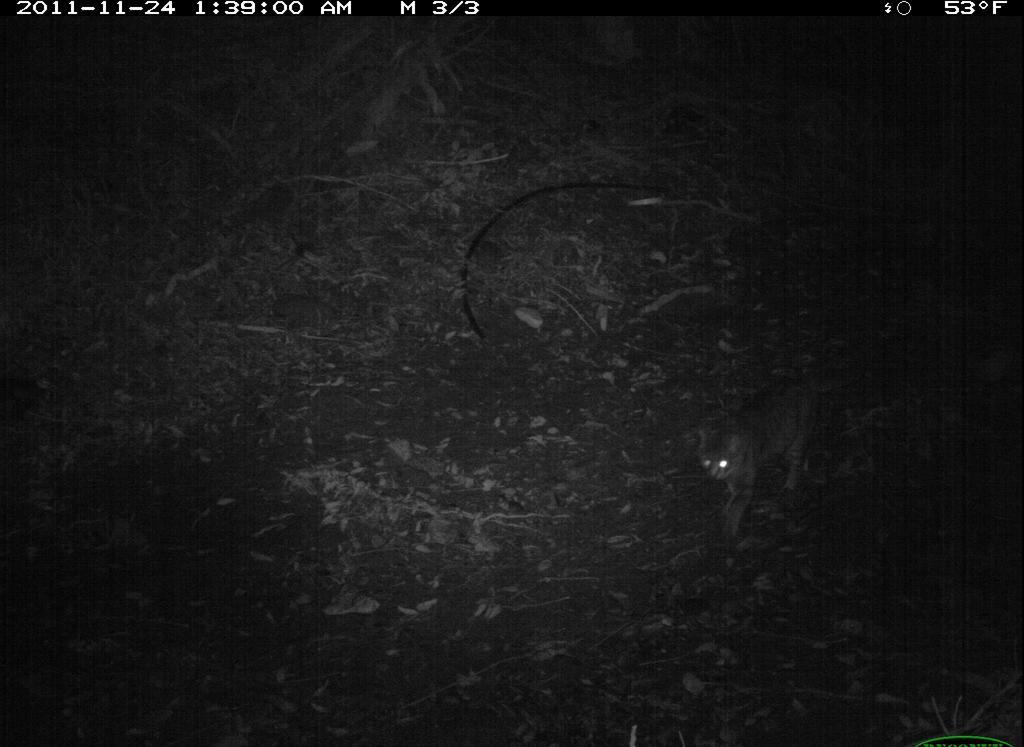cat: (678, 370, 865, 553)
